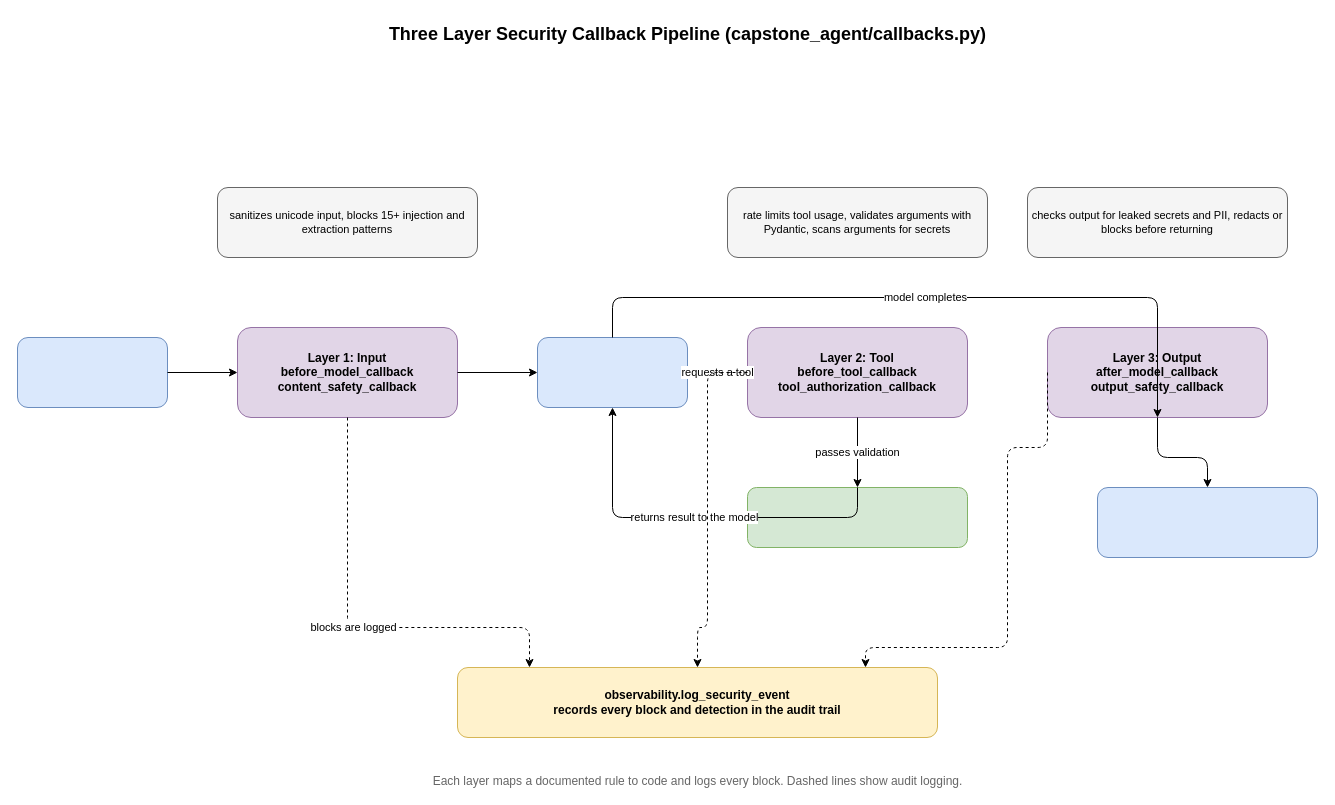
This 1335x805 diagram has some shape labels left out. Here are the shapes that lost their labels. From the top down, the centre of each, then its label:
At point (92, 372): "Clinician request".
At point (612, 372): "Gemini model call".
At point (857, 517): "Tool executes".
At point (1207, 522): "Safe response to clinician".
